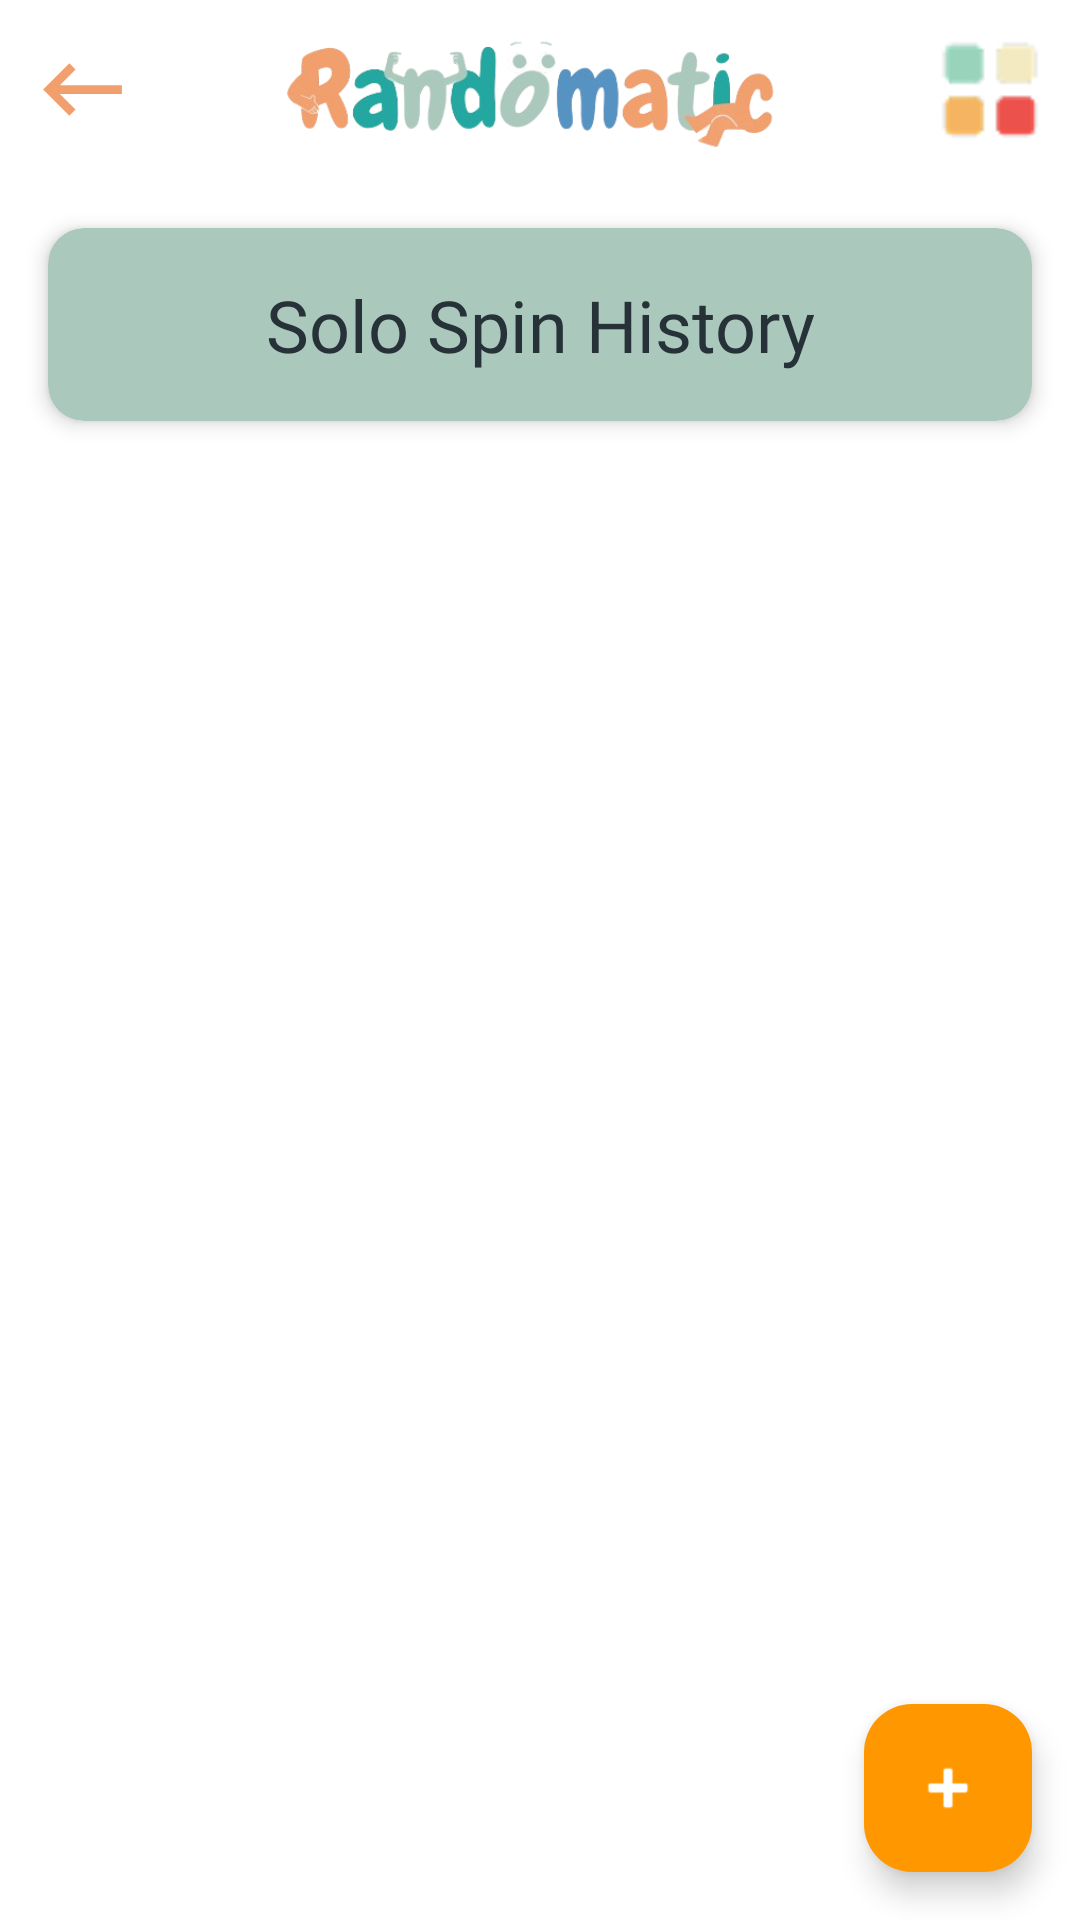

Named icons in this screenshot (1080px×1920px) and their centers, [x,y]:
add: [948,1788]
keyboard backspace: [82,89]
